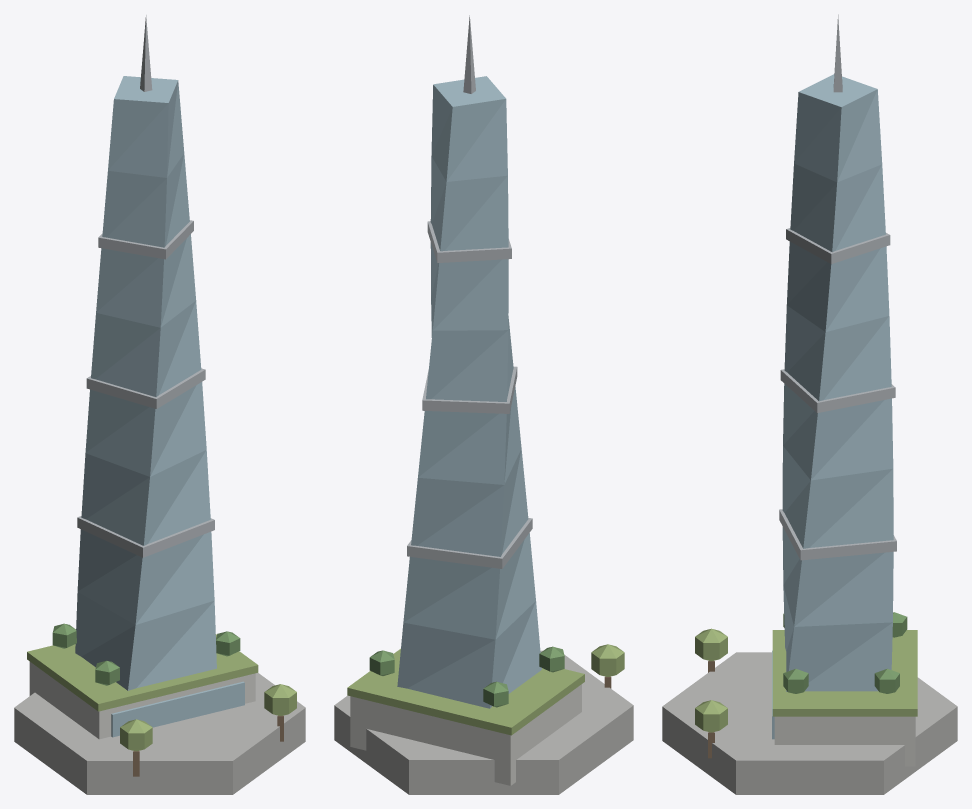
The model's file is center-information.glb.
The picture shows the model from 3 angles, left to right: view 1: azimuth 30°, elevation 25°; view 2: azimuth 150°, elevation 25°; view 3: azimuth 270°, elevation 25°; orthographic projection. The views are drawn at different scales.
Parts seen in each view (by area): view 1: LOD0; view 2: LOD0; view 3: LOD0.
Boxes of the visible parts, x1,y1,x2,y2 form: LOD0: [14, 15, 305, 794]; LOD0: [334, 15, 633, 794]; LOD0: [662, 14, 957, 794].
Size of what is drawn, in the model's own units: 0.3637 by 1.14 by 0.42.
